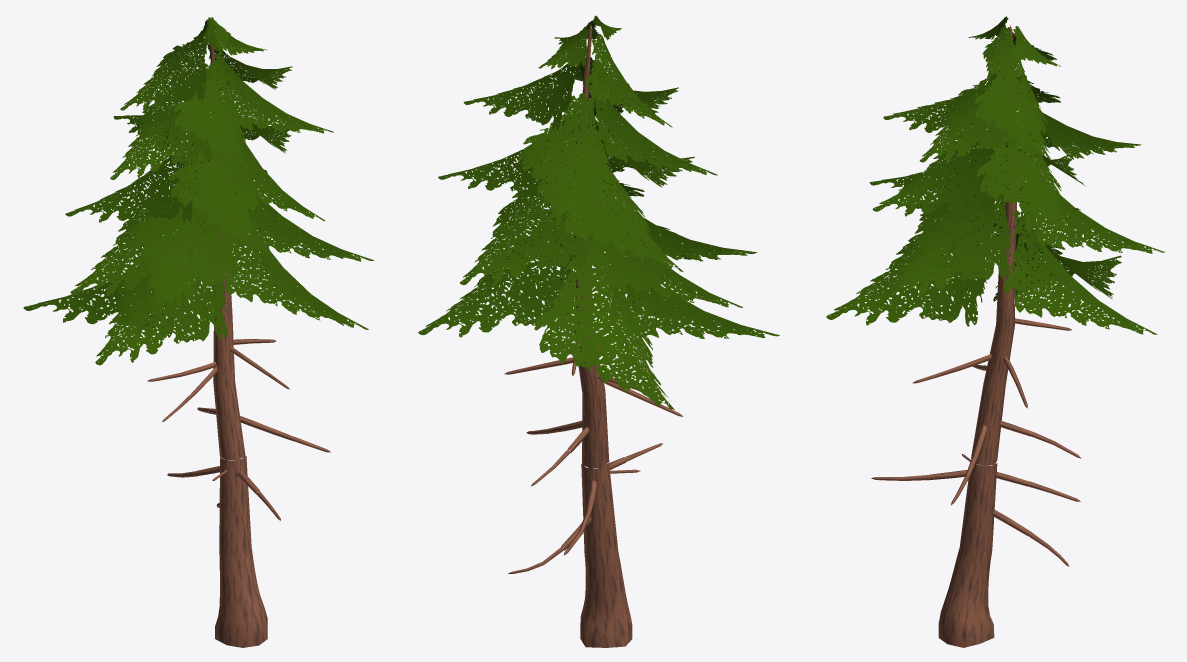
File: Pine_3.gltf
3 renders of one model, left to right at view 1: azimuth 30°, elevation 25°; view 2: azimuth 150°, elevation 25°; view 3: azimuth 270°, elevation 25°, orthographic. The views are drawn at different scales.
Parts seen in each view (by area): view 1: Pine_3; view 2: Pine_3; view 3: Pine_3.
Part boxes in pixels (bbox=[...]): Pine_3: bbox=[23, 17, 373, 647]; Pine_3: bbox=[418, 15, 779, 647]; Pine_3: bbox=[826, 16, 1164, 647].
Bounding box in the file's own units: 3.61 × 7.67 × 4.
2 materials, 2 textured.
